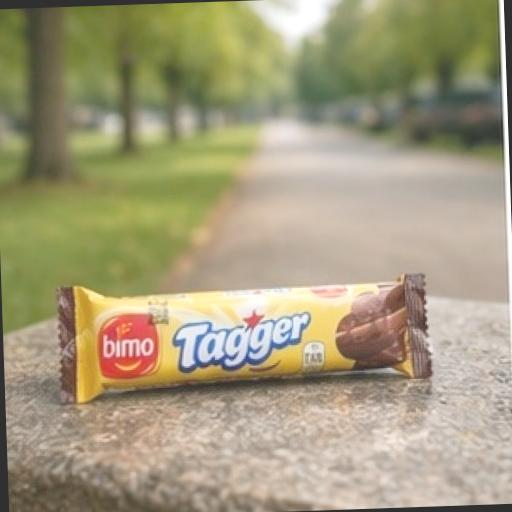tagger: (31, 194, 450, 438)
